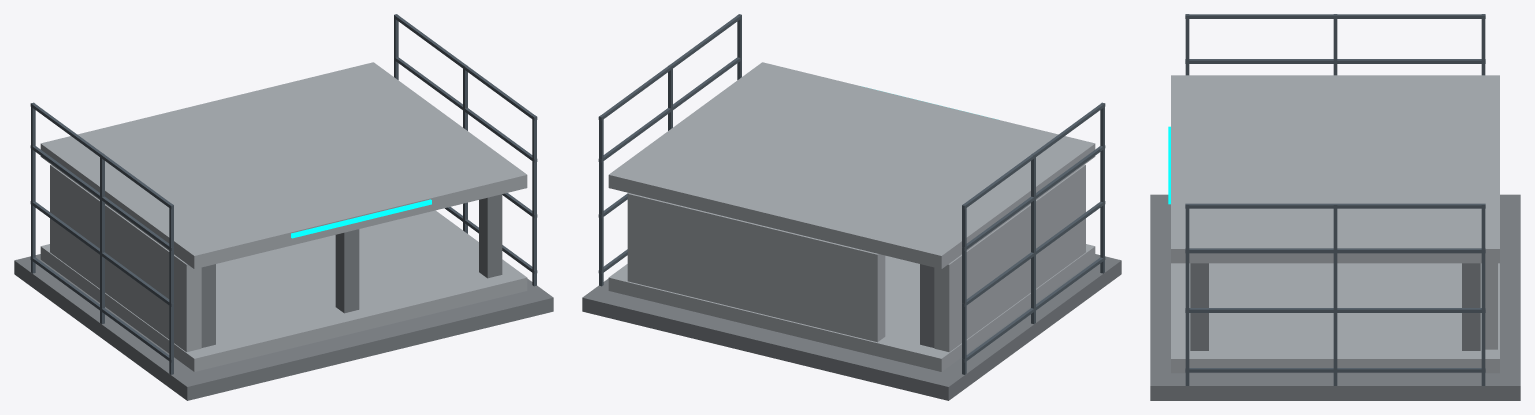
The model's file is stage 2.glb.
3 views of the same model, side by side, from view 1: azimuth 30°, elevation 25°; view 2: azimuth 150°, elevation 25°; view 3: azimuth 270°, elevation 25° (orthographic). The views are drawn at different scales.
Visible parts, largest first — view 1: FloorPlates, Foundation.001, PartialWalls, Scaffold, Columns, ConstructionStrip; view 2: FloorPlates, PartialWalls, Foundation.001, Scaffold, Columns; view 3: FloorPlates, Foundation.001, Scaffold, Columns, PartialWalls.
Boxes of the visible parts, x1,y1,x2,y2 form: FloorPlates: (40, 62, 527, 371); Foundation.001: (14, 254, 553, 400); PartialWalls: (50, 164, 201, 352); Scaffold: (30, 14, 537, 374); Columns: (201, 194, 502, 347); ConstructionStrip: (291, 199, 431, 238); FloorPlates: (608, 62, 1095, 371); PartialWalls: (627, 164, 1085, 352); Foundation.001: (582, 254, 1121, 400); Scaffold: (598, 14, 1105, 374); Columns: (920, 264, 934, 347); FloorPlates: (1171, 75, 1499, 373); Foundation.001: (1150, 194, 1520, 400); Scaffold: (1185, 14, 1485, 385); Columns: (1190, 263, 1480, 350); PartialWalls: (1485, 263, 1497, 349).
Bounding box in the file's own units: 11 × 5.25 × 9.
